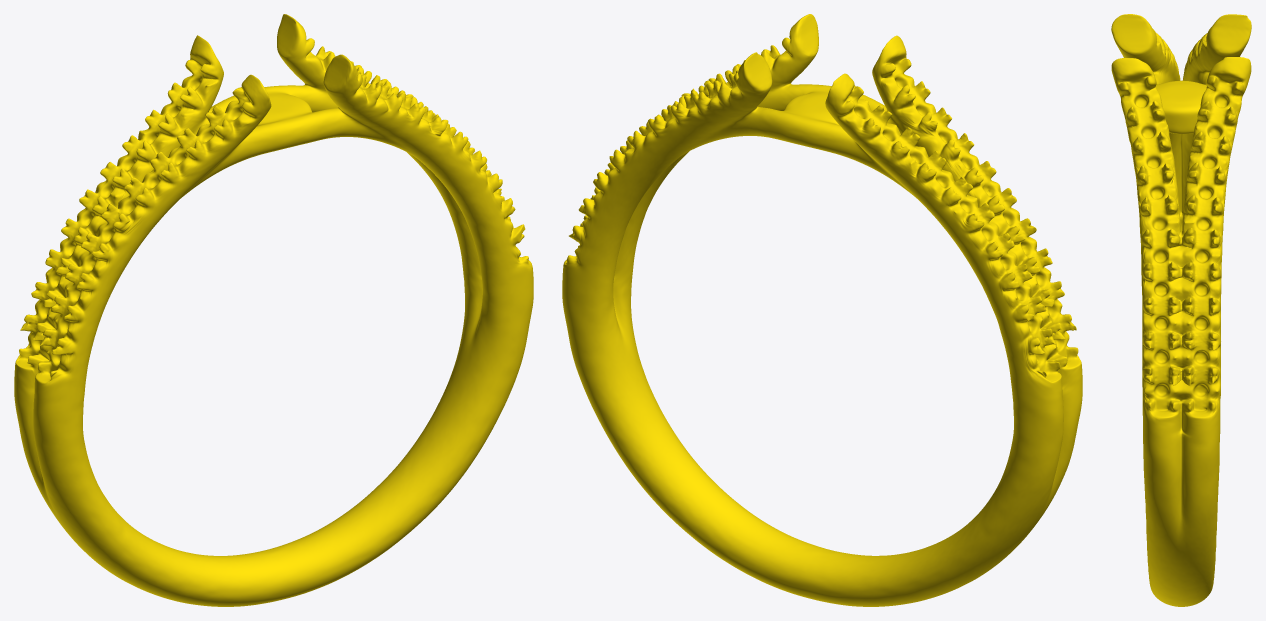
The model's file is Shank_Two row split_French Pave_A_No, Hidden Halo_Band.glb.
3 views of the same model, side by side, from view 1: azimuth 30°, elevation 25°; view 2: azimuth 150°, elevation 25°; view 3: azimuth 270°, elevation 25° (orthographic).
Bounding box in the file's own units: 0.0212 × 0.0225 × 0.00525.
